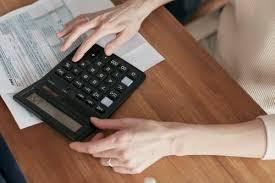Calculator: (12, 35, 150, 151)
